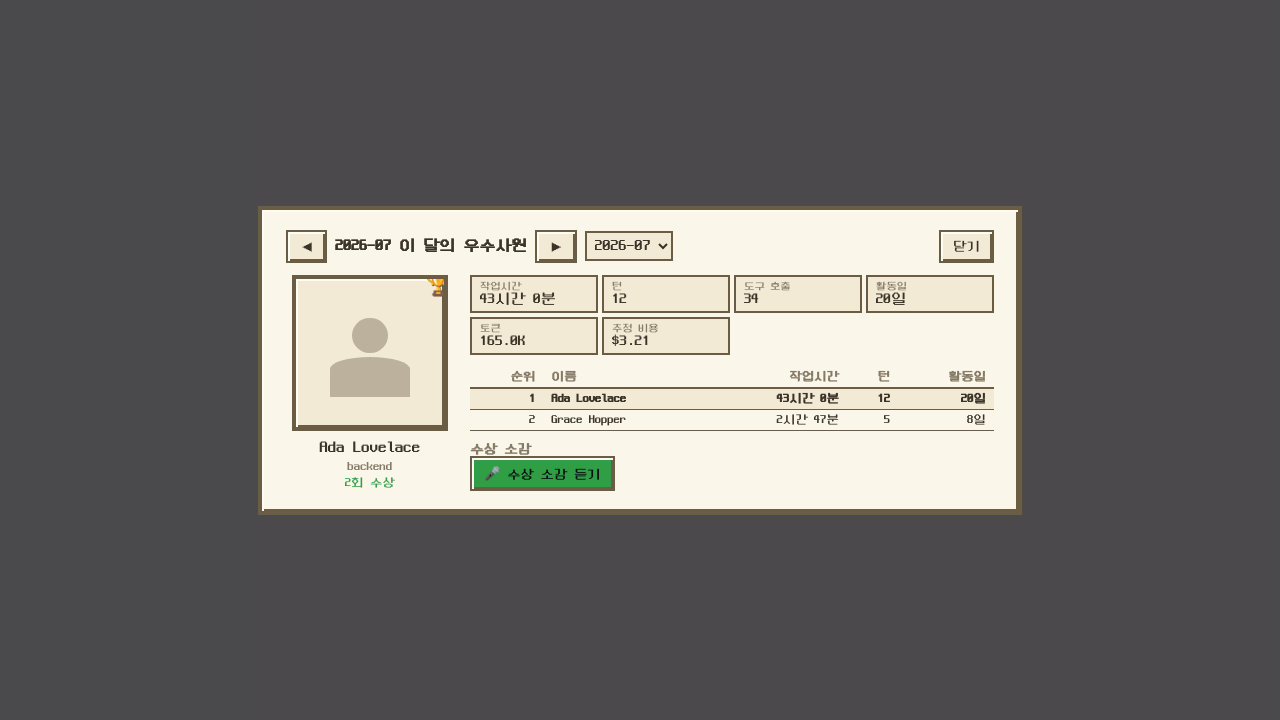
it: 월 네비게이션 › 드롭다운으로 특정 달을 바로 고를 수 있다
Select "2026-06" in the dropdown named "확정된 월 목록" at [629, 246], box [585,231,673,261]
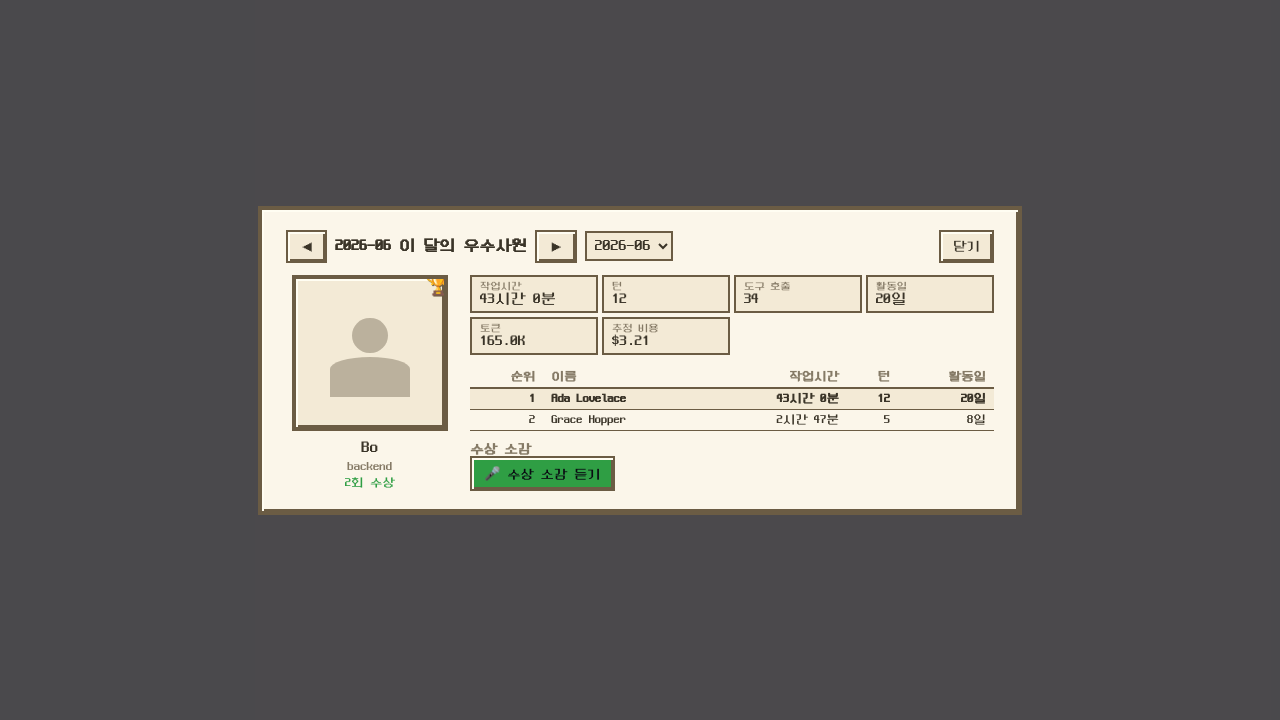
Expected: the element with class "awards-left" shows "Bo", [362,438,378,456]
